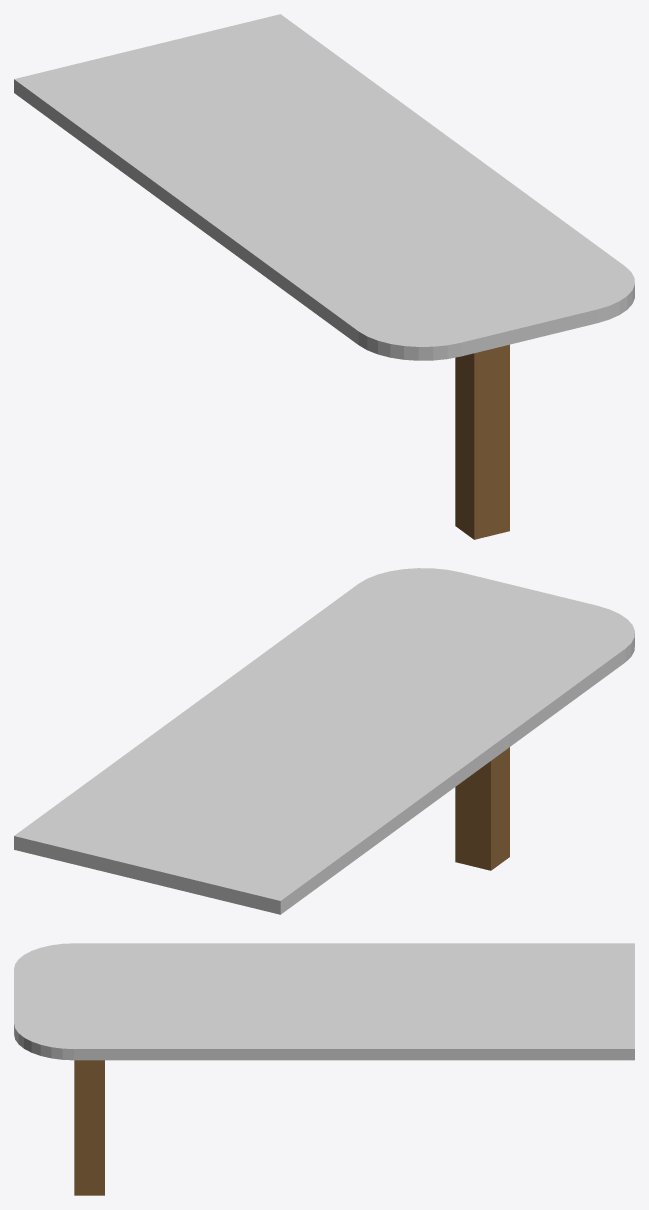
File: table.fbx
3 renders of one model, top to bottom at view 1: azimuth 30°, elevation 25°; view 2: azimuth 150°, elevation 25°; view 3: azimuth 270°, elevation 25°, orthographic. The views are drawn at different scales.
Visible parts, largest first — view 1: Cabinet.004; view 2: Cabinet.004; view 3: Cabinet.004.
Boxes of the visible parts, <box> form: Cabinet.004: <box>14,14,634,539</box>; Cabinet.004: <box>14,568,634,914</box>; Cabinet.004: <box>14,943,634,1195</box>.
Size of the model in its own units: 307 by 260 by 761.
